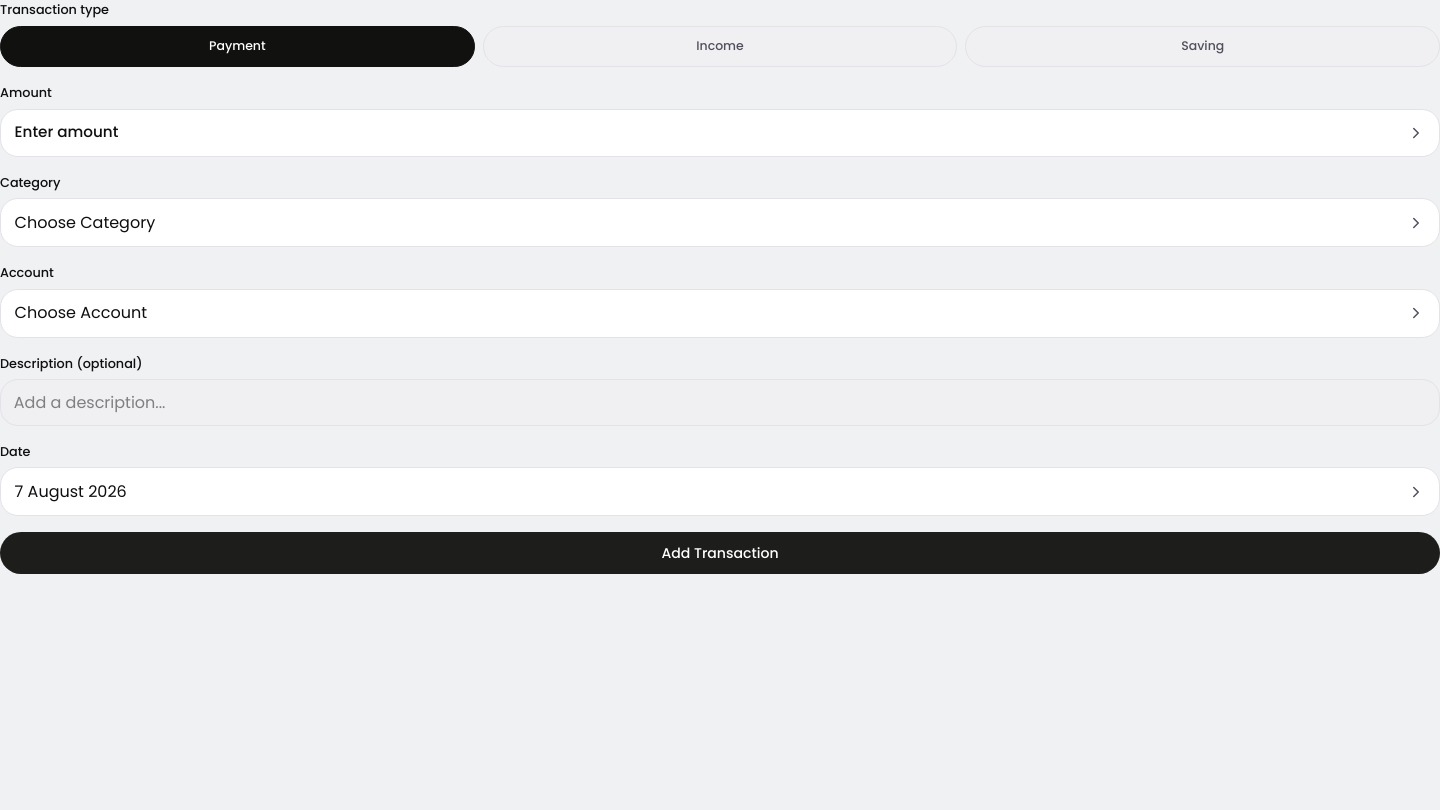
Scenario: TransactionForm › shows the full expression and a running preview total
Click the button "Enter amount": (66, 132) left=0, top=109, right=1439, bottom=157
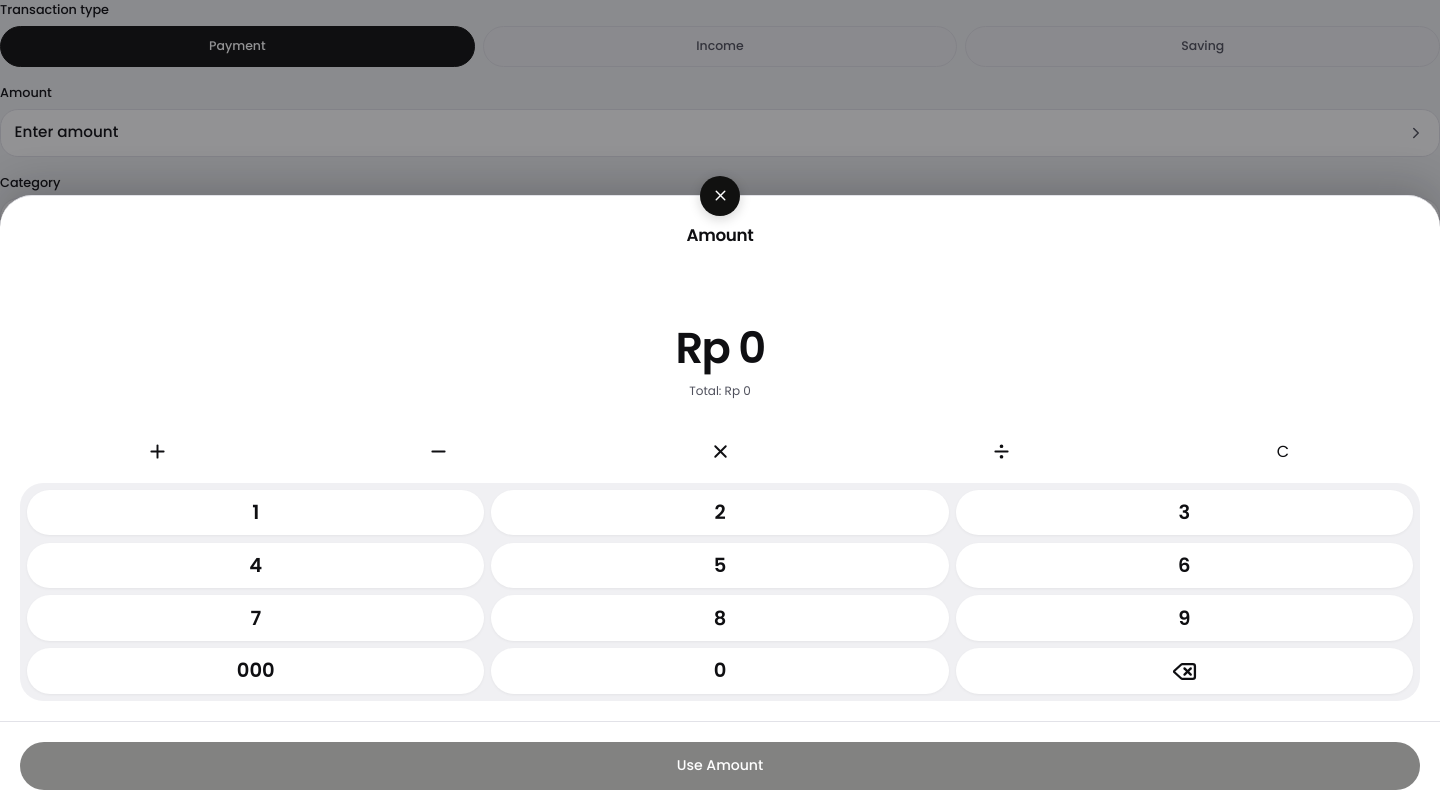
Click the button "7": (256, 618) left=27, top=595, right=484, bottom=641
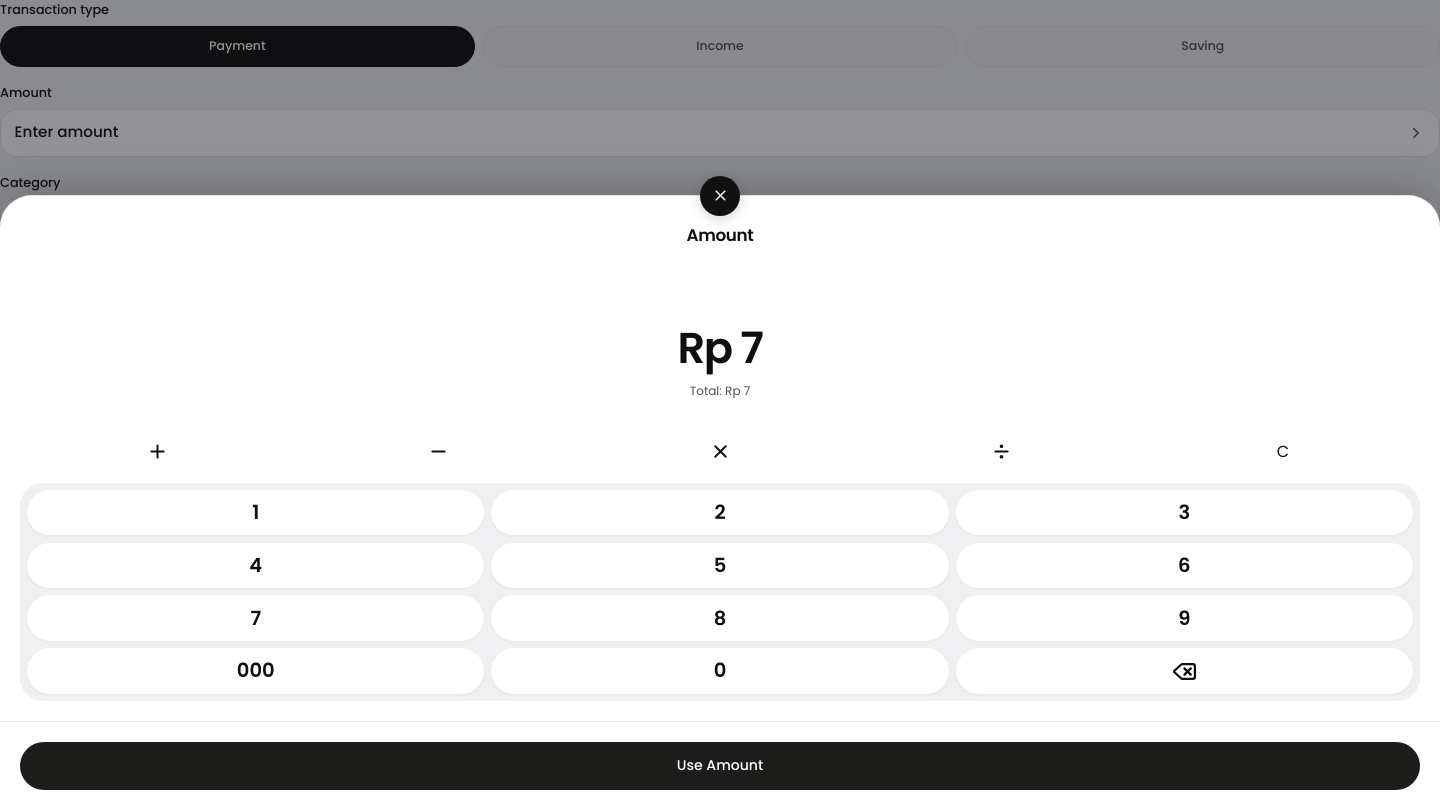
Click the button named "Insert three zeros": (256, 671) left=27, top=648, right=484, bottom=694
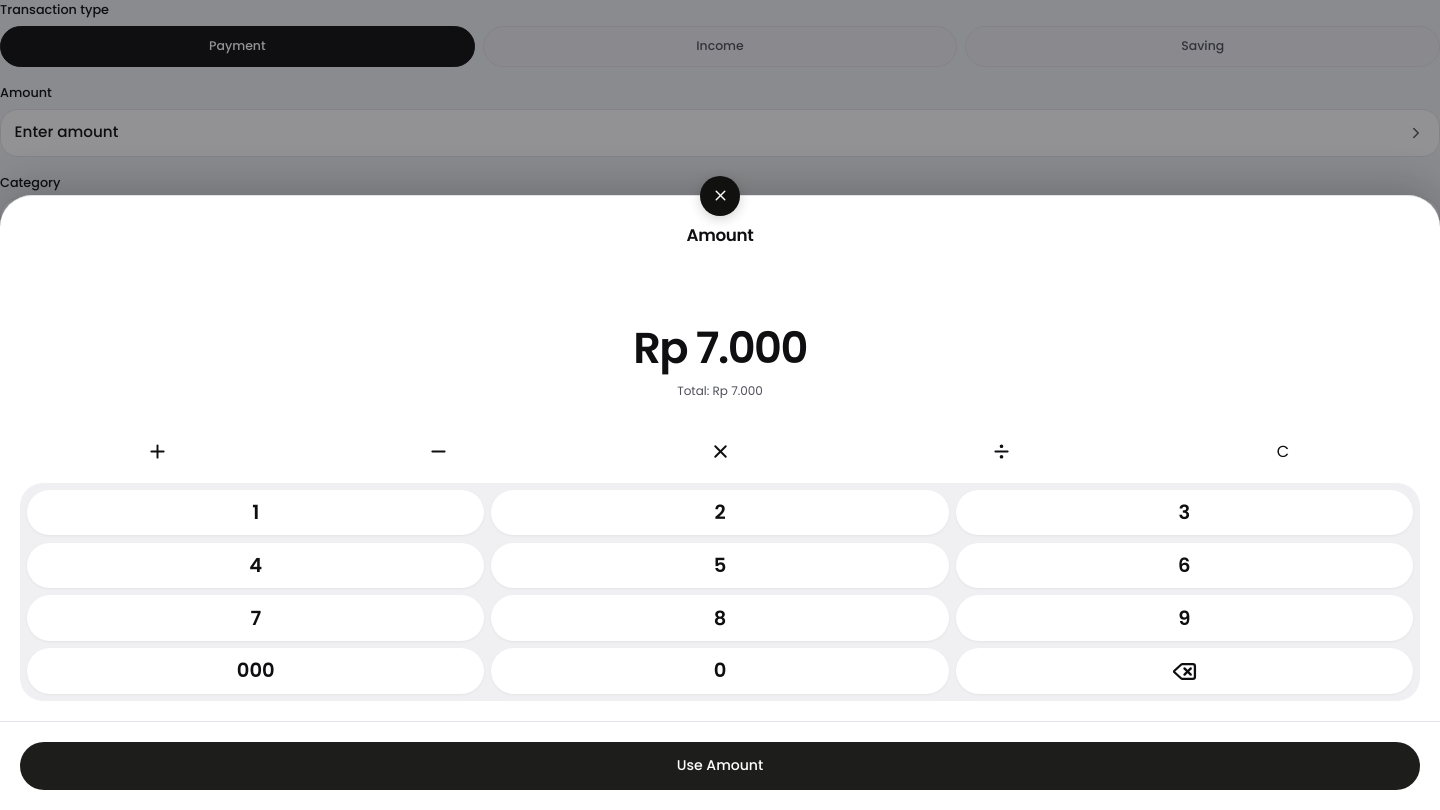
Click the button named "Multiply": (720, 452) left=583, top=429, right=857, bottom=475
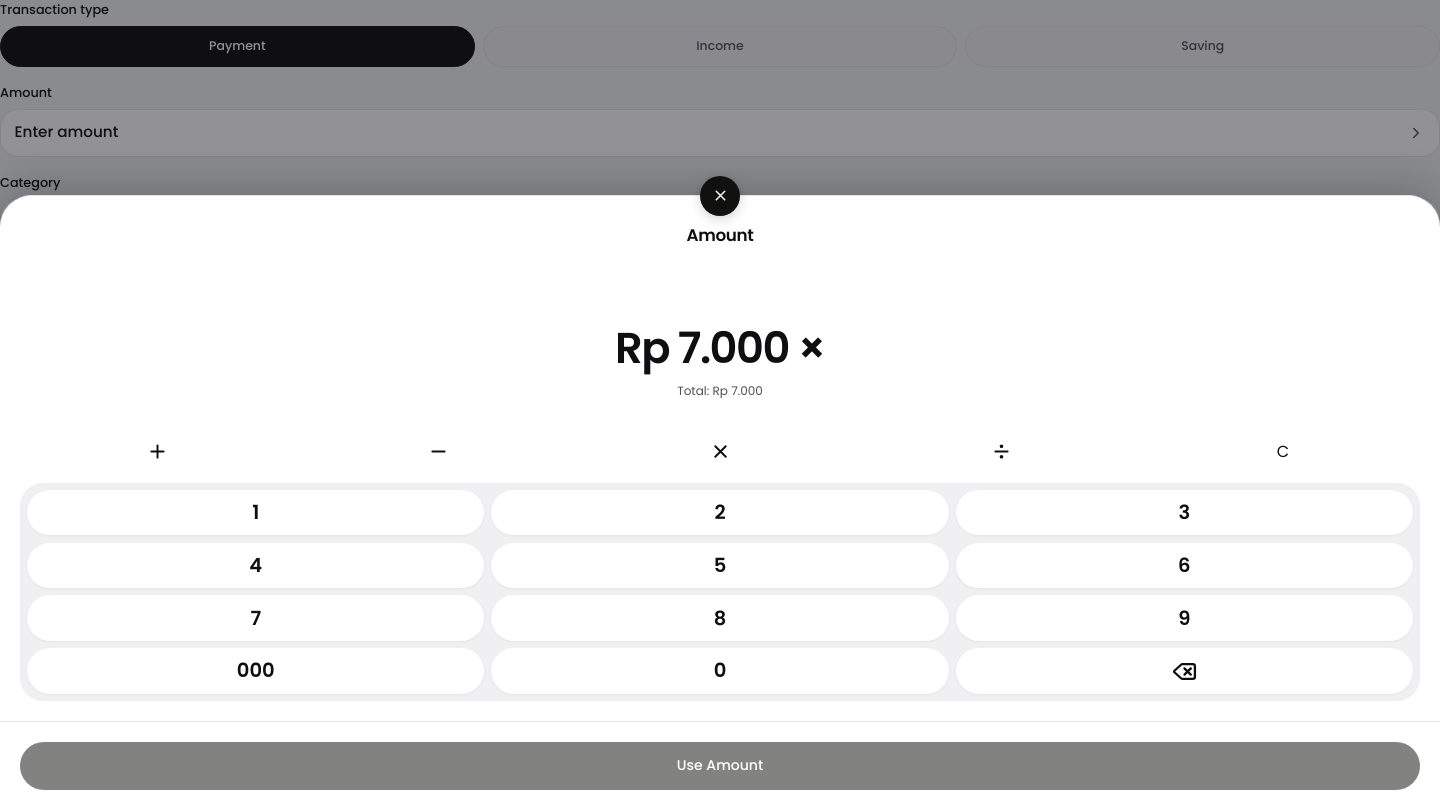
expect the text named "Preview total" reads "Total: Rp 7.000": met, box left=712, top=382, right=763, bottom=399
expect the text named "Calculator expression" reads "Rp 7.000 ×": met, box left=615, top=318, right=825, bottom=378
expect the button "Use Amount" is disabled: met, box left=20, top=742, right=1420, bottom=790
Click the button "4": (256, 566) left=27, top=543, right=484, bottom=588
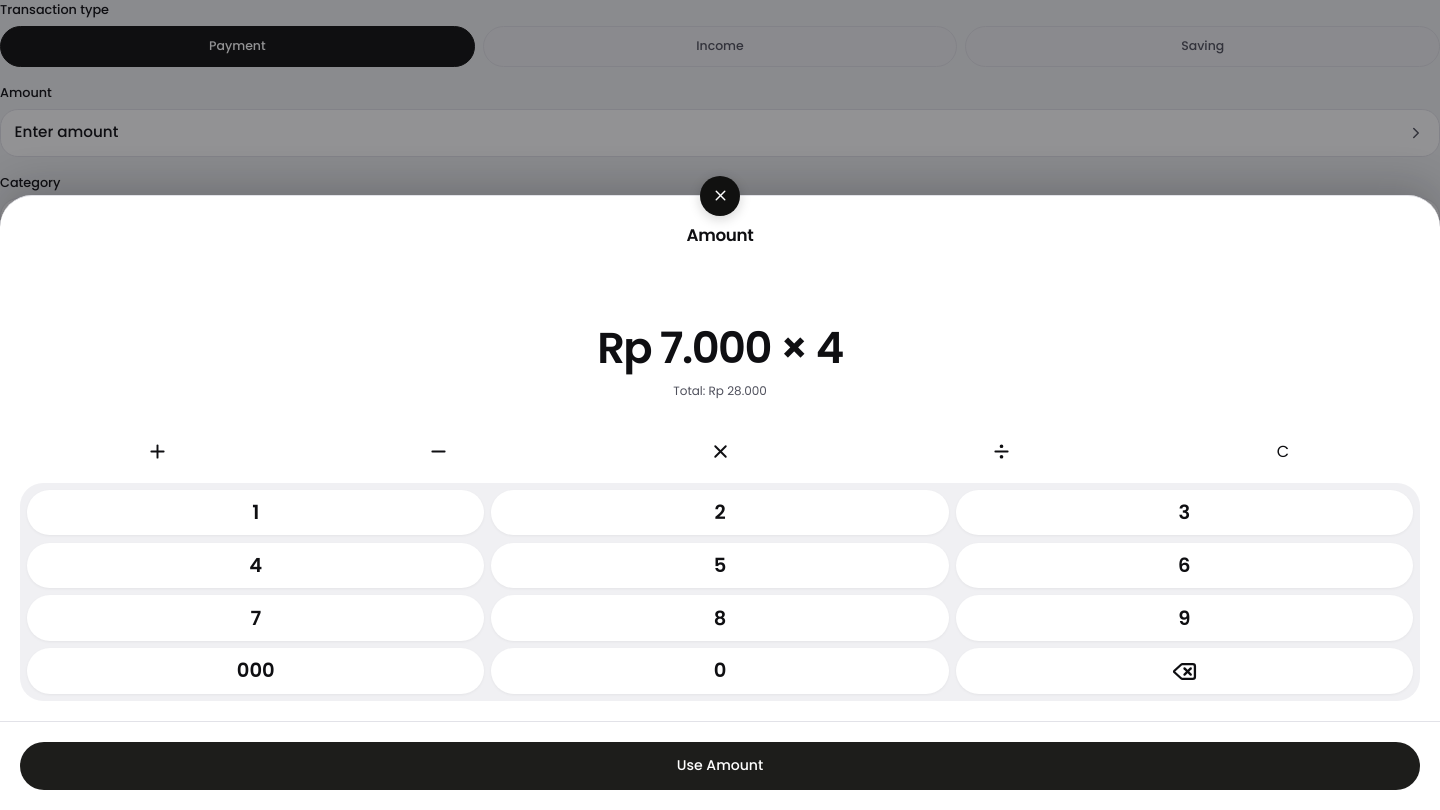
Click the button named "Zero": (720, 671) left=492, top=648, right=949, bottom=694
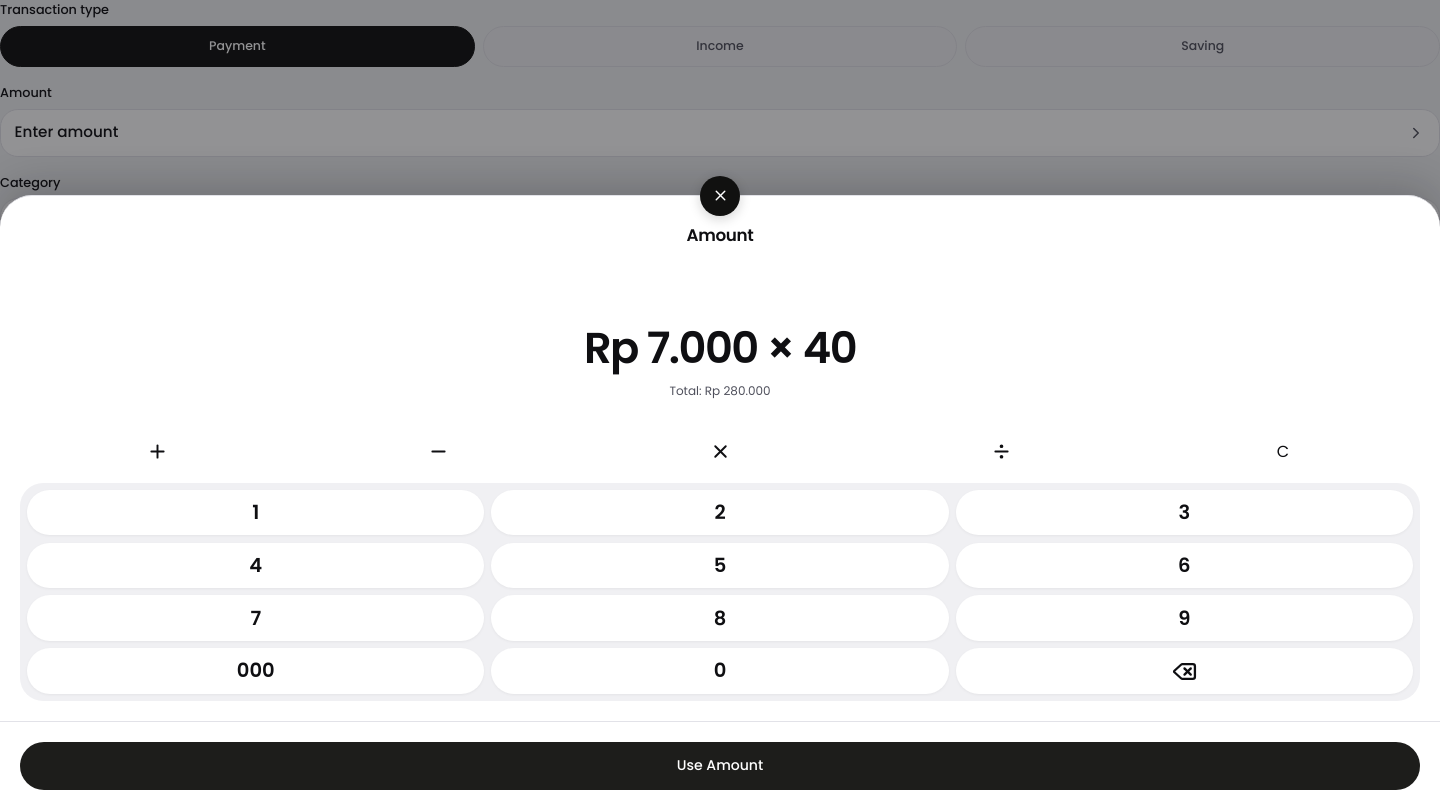
expect the button "Use Amount" is enabled: met, box left=20, top=742, right=1420, bottom=790
expect the text named "Calculator expression" reads "Rp 7.000 × 40": met, box left=584, top=318, right=856, bottom=378
expect the text named "Preview total" reads "Total: Rp 280.000": met, box left=705, top=382, right=771, bottom=399
